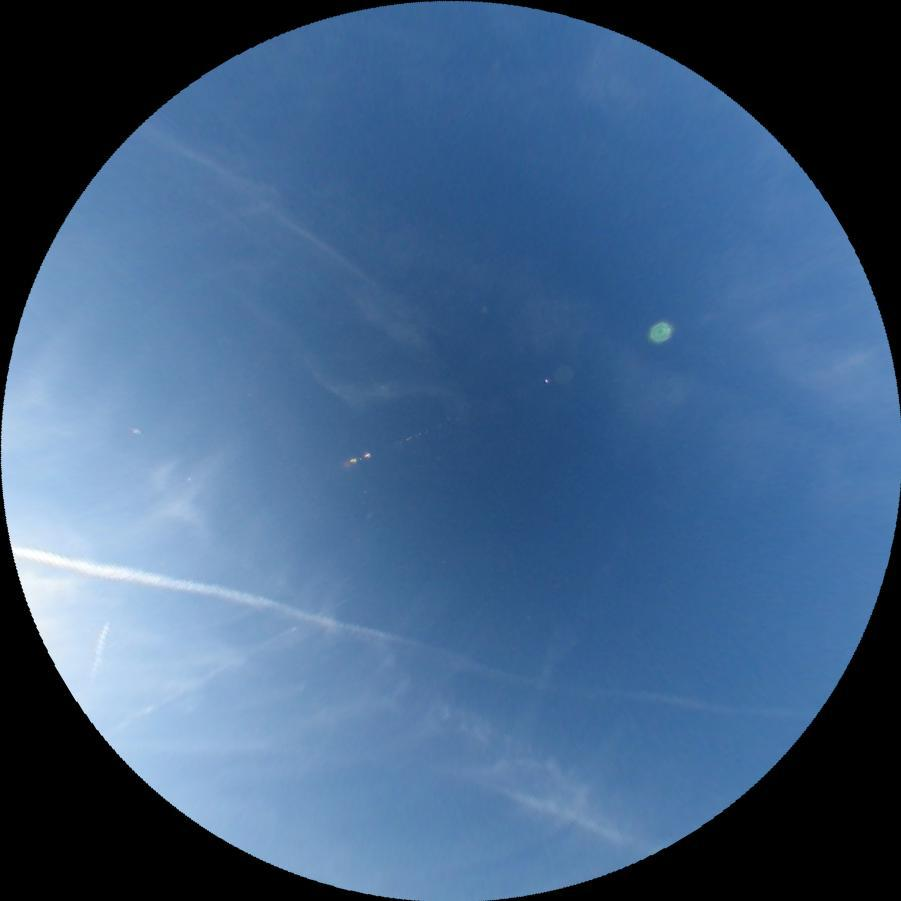contrail old: (5, 537, 813, 750)
contrail young: (84, 620, 113, 686)
unknow: (500, 782, 633, 849)
